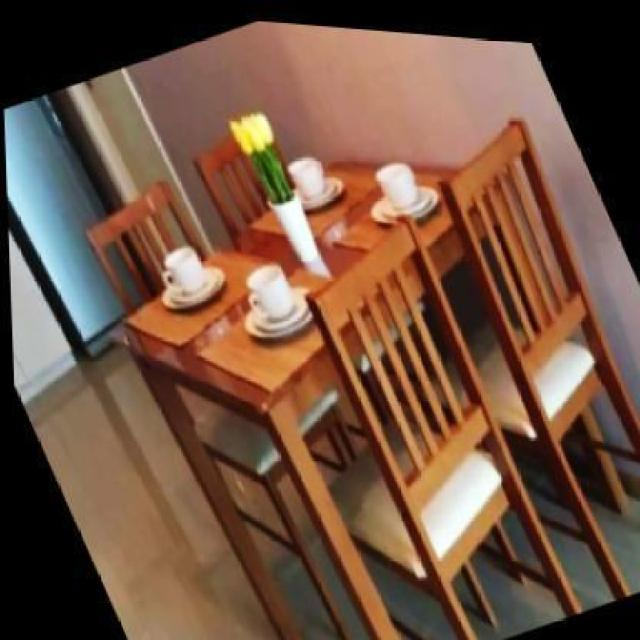tables: (116, 158, 507, 638)
